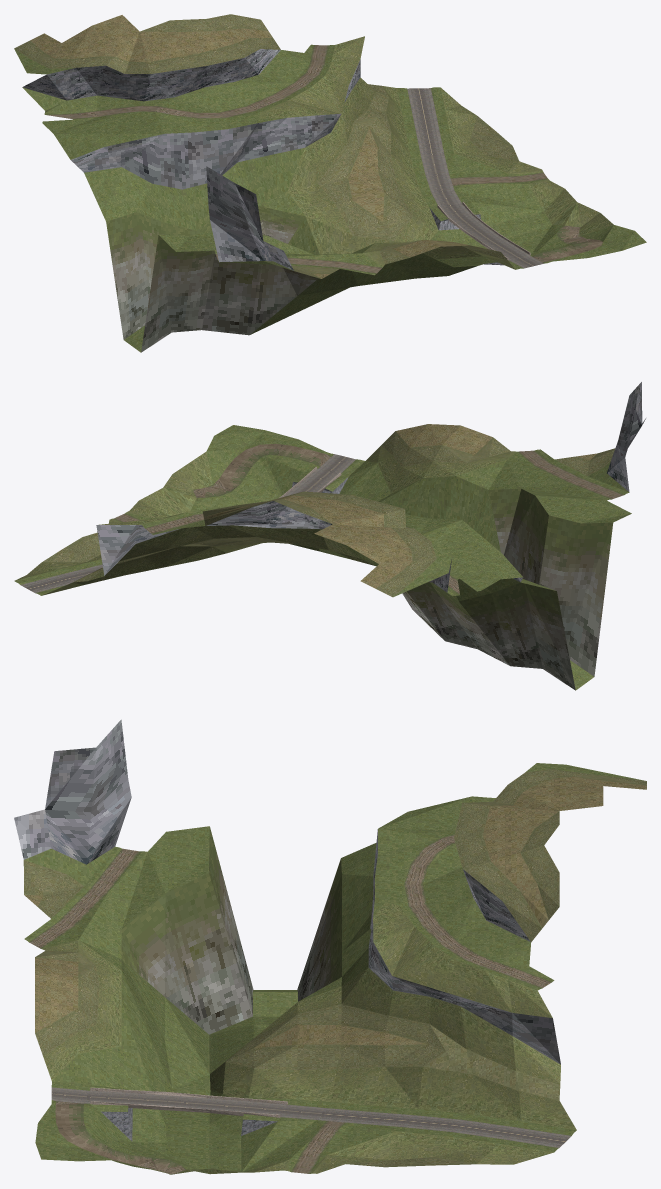
File: nw_lodbit_20.obj
3 views of the same model, one above another, from view 1: azimuth 30°, elevation 25°; view 2: azimuth 150°, elevation 25°; view 3: azimuth 270°, elevation 25° (orthographic). The views are drawn at different scales.
Visible parts, largest first — view 1: nw_lodbit_20; view 2: nw_lodbit_20; view 3: nw_lodbit_20.
Part boxes in pixels (box(x1,y1,x2,y2)): nw_lodbit_20: box(14, 14, 646, 352); nw_lodbit_20: box(14, 382, 645, 690); nw_lodbit_20: box(14, 719, 646, 1174).
Bounding box in the file's own units: 250 × 124 × 256.
17 materials, 17 textured.
